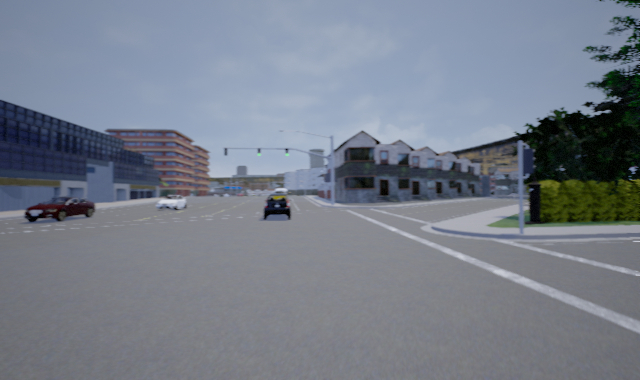traffic_light: (257, 148, 262, 157), (285, 147, 289, 157)
vehicle: (23, 196, 94, 223), (261, 192, 292, 220), (156, 194, 188, 210)
